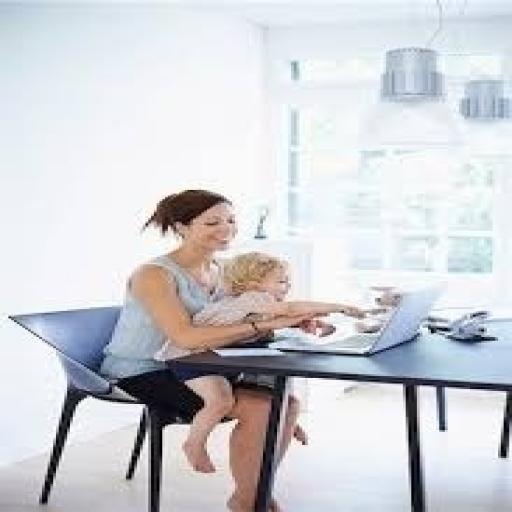using_laptop: (266, 280, 448, 358)
